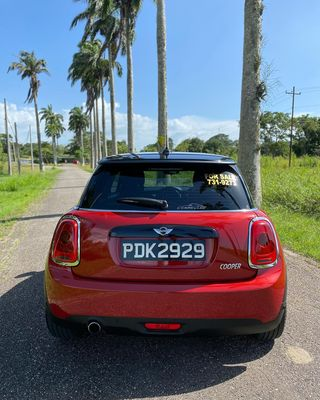License-Plate: (120, 239, 204, 260)
